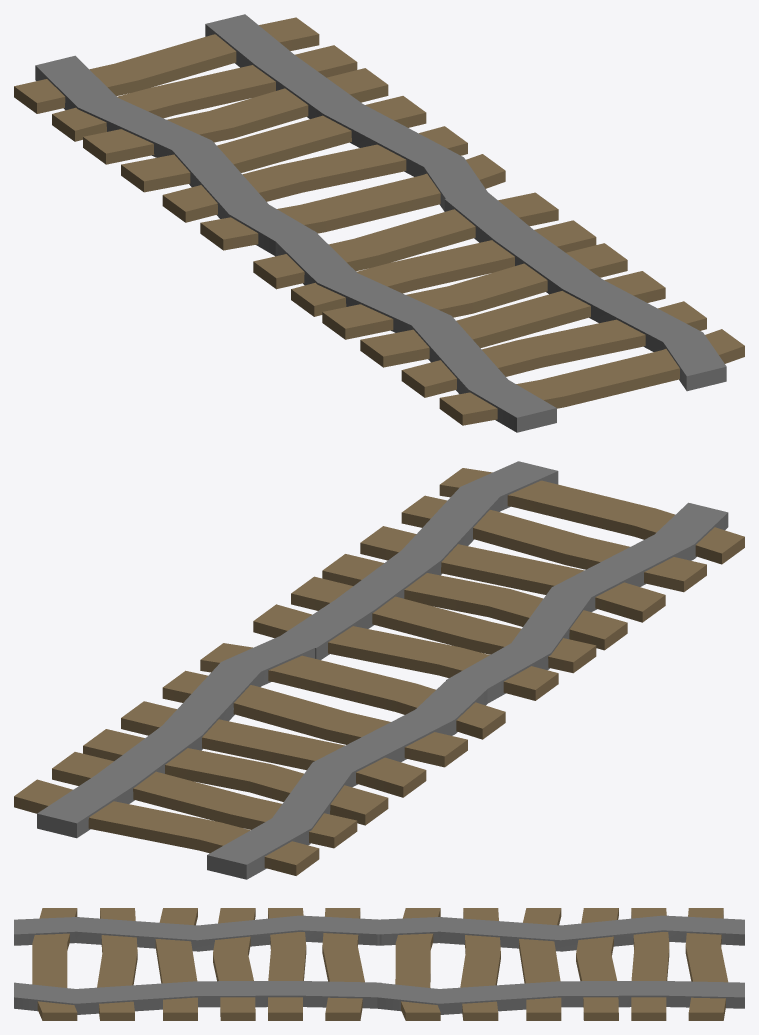
File: Rails.fbx
The picture shows the model from 3 angles, top to bottom: view 1: azimuth 30°, elevation 25°; view 2: azimuth 150°, elevation 25°; view 3: azimuth 270°, elevation 25°; orthographic projection. The views are drawn at different scales.
Parts seen in each view (by area): view 1: Rails; view 2: Rails; view 3: Rails.
Part boxes in pixels (x1,y1,x2,y2): Rails: (14, 14, 744, 432); Rails: (14, 461, 744, 879); Rails: (14, 908, 744, 1020).
Bounding box in the file's own units: 2.63 × 0.1334 × 7.78.
